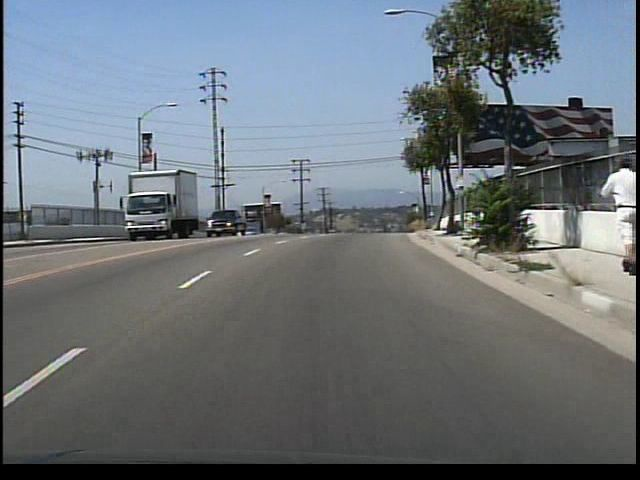person: (592, 151, 637, 277)
